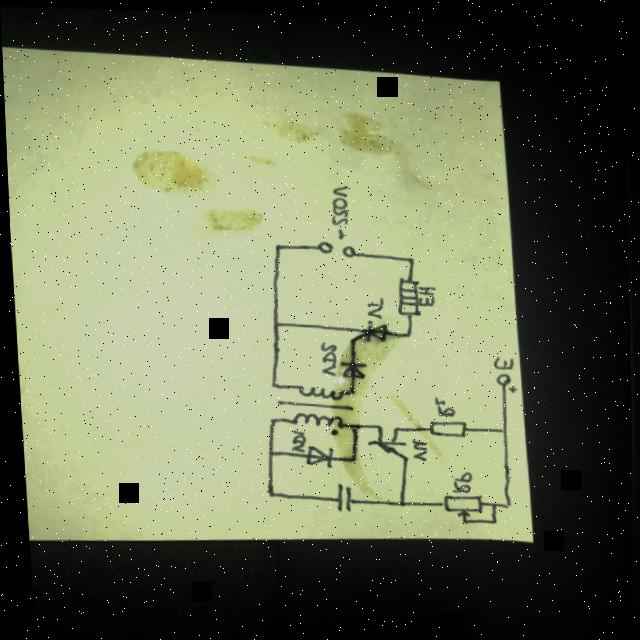capacitor: (329, 479, 348, 510)
diode: (299, 441, 330, 467), (336, 356, 363, 377)
junction: (496, 496, 507, 505), (454, 513, 465, 522), (345, 333, 356, 342), (484, 512, 494, 521), (369, 419, 379, 428), (483, 496, 494, 504), (260, 446, 271, 454), (345, 420, 356, 428), (268, 317, 279, 325), (402, 252, 413, 260), (385, 421, 396, 429), (493, 422, 503, 430), (391, 495, 401, 503), (343, 452, 353, 460), (261, 488, 271, 496), (264, 378, 274, 386), (344, 385, 354, 393), (399, 327, 409, 335), (269, 241, 279, 249)
resistor: (435, 490, 477, 514), (423, 415, 464, 434)
terminal: (488, 367, 509, 381), (311, 237, 331, 251), (338, 241, 355, 256)
text: (327, 182, 349, 236), (313, 339, 336, 374), (428, 391, 451, 414), (445, 466, 468, 489), (361, 293, 382, 316), (415, 281, 434, 304), (286, 426, 303, 451), (406, 434, 423, 457), (487, 352, 512, 366)
thyristor: (354, 316, 384, 340)
transformer: (286, 381, 343, 433)
transistor: (361, 428, 404, 456)
